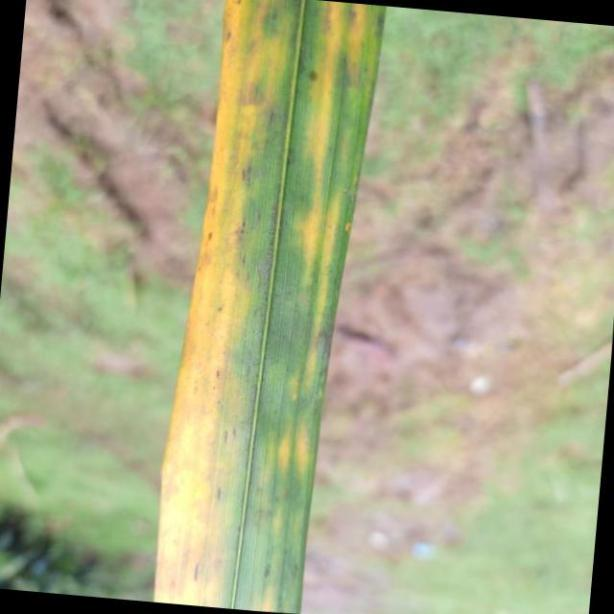Megnesium: (149, 0, 387, 614)
